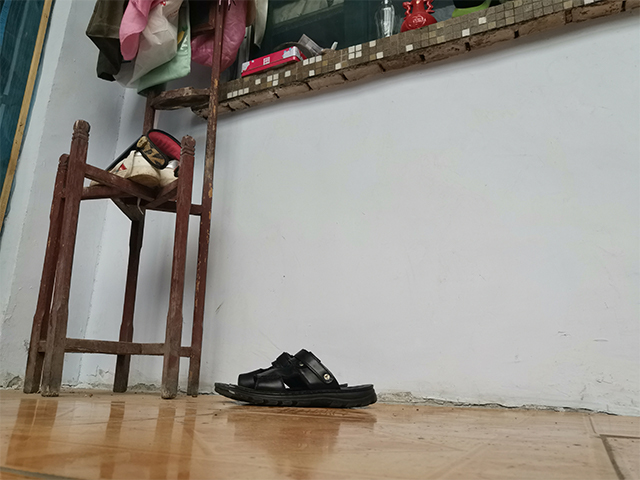slippers: (212, 345, 380, 409)
